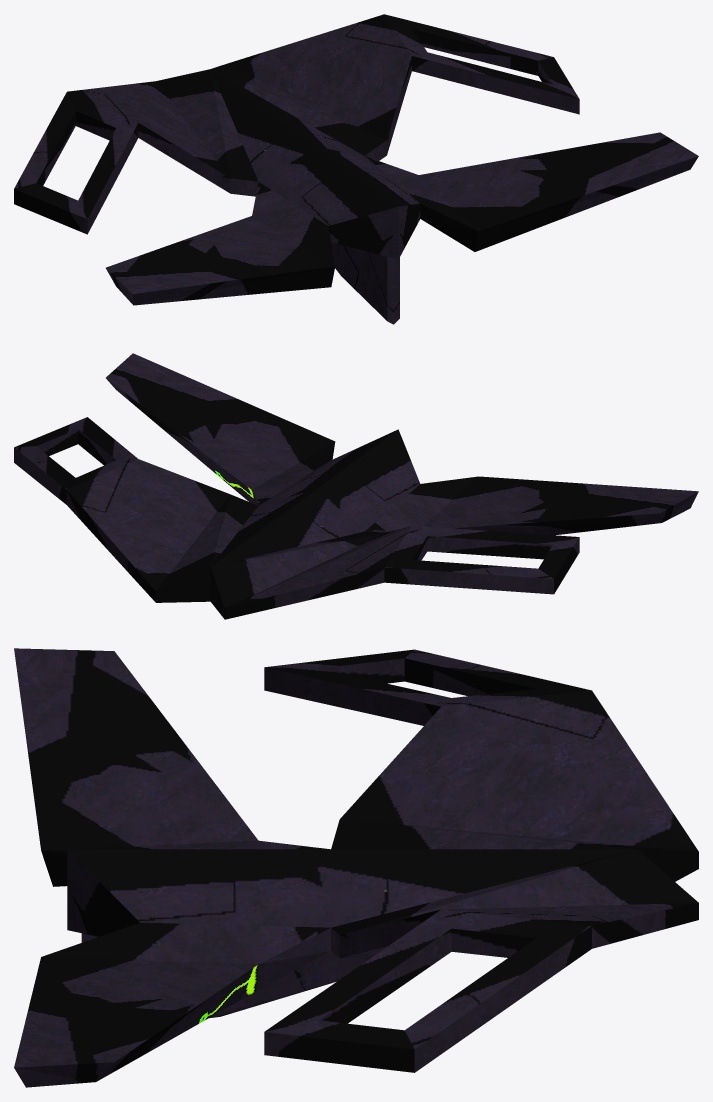
File: Sitving.fbx
The picture shows the model from 3 angles, top to bottom: view 1: azimuth 30°, elevation 25°; view 2: azimuth 150°, elevation 25°; view 3: azimuth 270°, elevation 25°; orthographic projection. The views are drawn at different scales.
Parts seen in each view (by area): view 1: Sitving; view 2: Sitving; view 3: Sitving.
Part boxes in pixels (x1,y1,x2,y2): Sitving: (14, 14, 698, 324); Sitving: (14, 353, 698, 619); Sitving: (14, 648, 698, 1087).
Size of the model in its own units: 200 by 50.24 by 138.
1 material, 1 textured.
